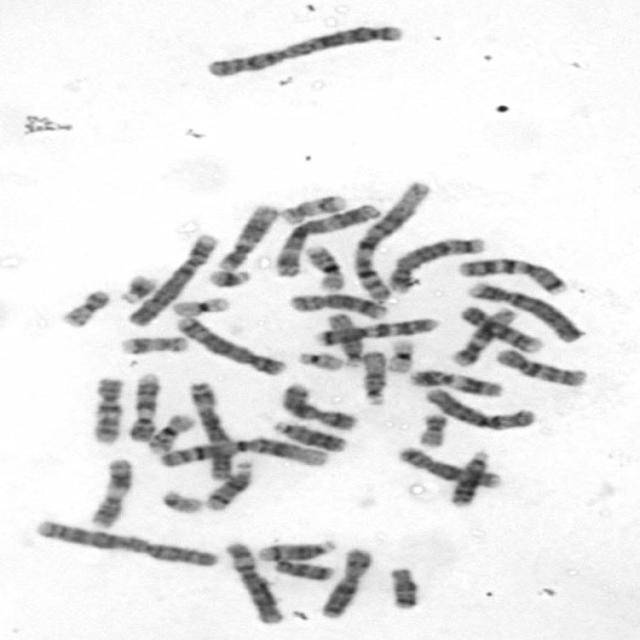A1: (347, 178, 432, 302), (155, 436, 329, 469)
A2: (201, 20, 406, 78), (29, 516, 220, 568)
A3: (269, 202, 381, 278), (185, 378, 235, 481)
B4: (122, 231, 222, 328), (462, 279, 586, 344)
B5: (172, 313, 288, 377), (383, 234, 489, 293)
C10: (492, 346, 590, 388), (85, 373, 128, 447)
C11: (85, 455, 134, 530), (403, 366, 504, 398)
C12: (213, 200, 281, 273), (446, 306, 518, 368)
C6: (220, 538, 286, 625), (420, 385, 537, 432)
C7: (452, 255, 570, 295), (310, 314, 440, 348)
C8: (393, 444, 503, 489), (283, 290, 391, 320)
C9: (456, 303, 545, 353), (124, 370, 162, 443)
D13: (268, 418, 348, 452), (447, 448, 492, 507)
D14: (200, 458, 255, 513), (253, 536, 337, 564)
D15: (323, 310, 364, 366), (358, 349, 388, 407)
E16: (301, 242, 346, 292), (143, 412, 196, 454)
E17: (276, 192, 348, 226), (115, 333, 190, 357)
E18: (267, 556, 335, 582), (385, 564, 421, 610)
F19: (166, 295, 232, 318), (382, 336, 418, 374)
F20: (57, 286, 115, 330), (414, 411, 451, 449)
G21: (116, 271, 160, 305), (204, 266, 253, 289)
G22: (156, 487, 205, 515), (294, 349, 346, 372)
X: (316, 546, 374, 620), (276, 381, 359, 432)
